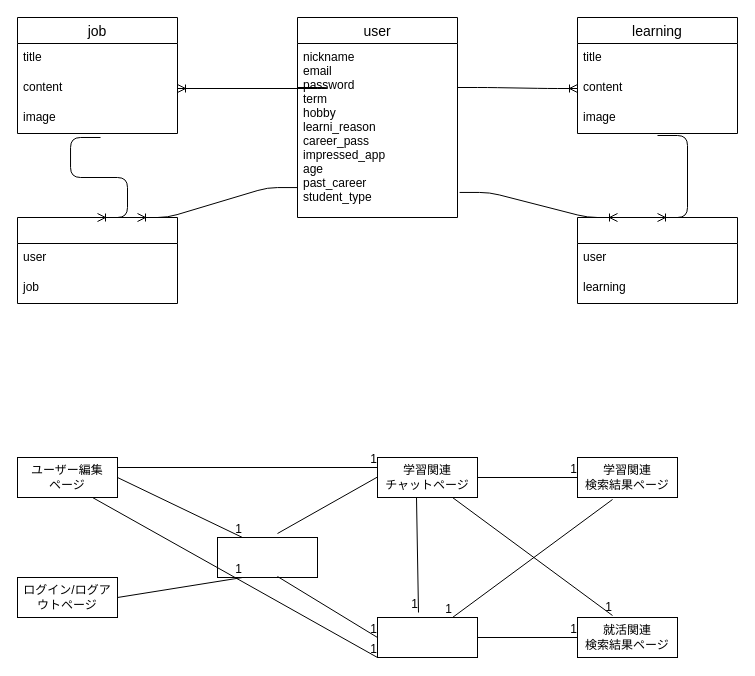
The diagram is 755 pixels wide and 676 high, and some of its shapes have lost their labels. The shapes that lost their labels are listed below. From the top down, each one's box as (x1, y1, x2, y2) in pixels, then its label:
(16, 216, 178, 304): job_like
(576, 216, 738, 304): learning_like
(216, 536, 318, 578): トップページ
(376, 616, 478, 658): 就活関連 チャットページ
